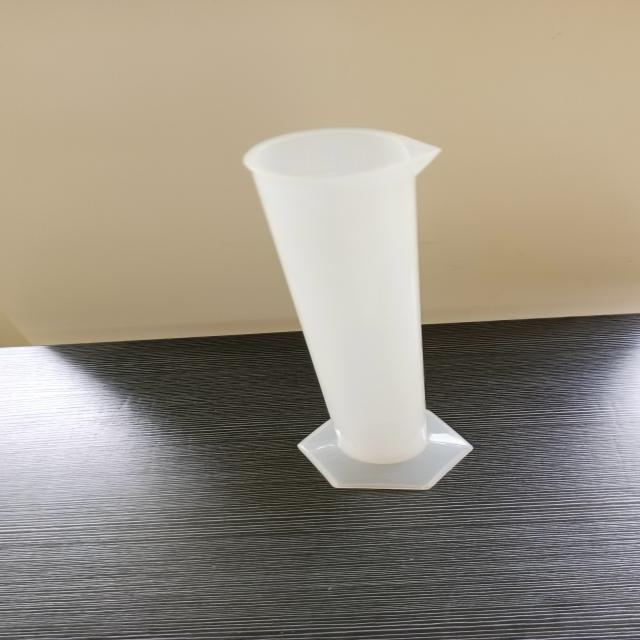graduated_cylinder: (237, 122, 478, 494)
